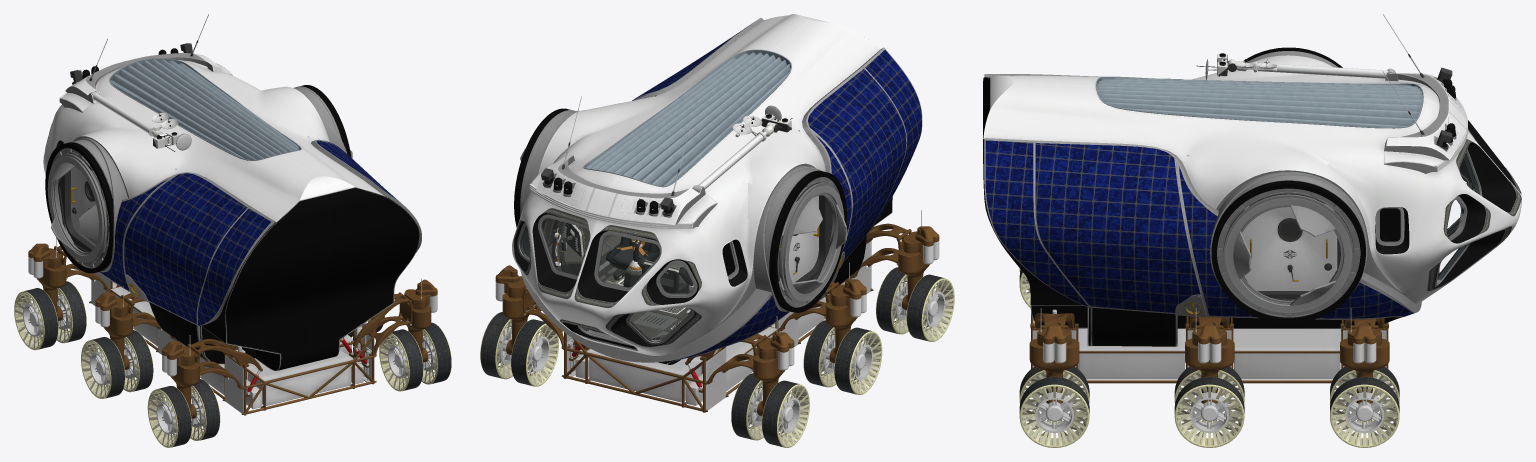
Rendered from rover.glb.
3 renders of one model, left to right at view 1: azimuth 30°, elevation 25°; view 2: azimuth 150°, elevation 25°; view 3: azimuth 270°, elevation 25°, orthographic. The views are drawn at different scales.
Visible parts, largest first — view 1: MMSEV_Chassis, tire-4, tire-0, tire-2, tire-5, upright-2, upright-0, upright-5, upright-4; view 2: MMSEV_Chassis, tire-2, tire-4, tire-0, tire-1, interior / Graph / coated alloy, upright-4, upright-0, upright-2, interior / Armor / coated alloy, upright-1, interior / Edge / coated alloy (+2 smaller); view 3: MMSEV_Chassis, tire-5, tire-3, tire-1, upright-5, upright-1, upright-3, interior / SEV / graphite inner pressure skin.
Boxes of the visible parts, x1,y1,x2,y2 form: MMSEV_Chassis: (43,14,421,415); tire-4: (147,379,220,447); tire-0: (14,281,86,350); tire-2: (81,330,153,398); tire-5: (379,322,451,391); upright-2: (95,292,134,369); upright-0: (28,243,67,320); upright-5: (398,279,437,362); upright-4: (162,341,201,418); MMSEV_Chassis: (512,14,922,412); tire-2: (803,320,882,394); tire-4: (876,267,954,341); tire-0: (731,373,809,447); tire-1: (480,312,558,386); interior / Graph / coated alloy: (542,219,693,339); upright-4: (896,226,939,310); upright-0: (751,332,794,416); upright-2: (824,279,866,363); interior / Armor / coated alloy: (543,218,691,337); upright-1: (495,265,536,354); interior / Edge / coated alloy: (543,219,693,339); MMSEV_Chassis: (983,14,1521,383); tire-5: (1019,366,1089,447); tire-3: (1174,366,1244,447); tire-1: (1330,366,1399,447); upright-5: (1029,322,1079,403); upright-1: (1340,322,1389,403); upright-3: (1185,322,1234,403); interior / SEV / graphite inner pressure skin: (1437,152,1479,279).
Bounding box in the file's own units: 3.38 × 3.32 × 4.95.
Materials: 32 (19 with a texture image).
